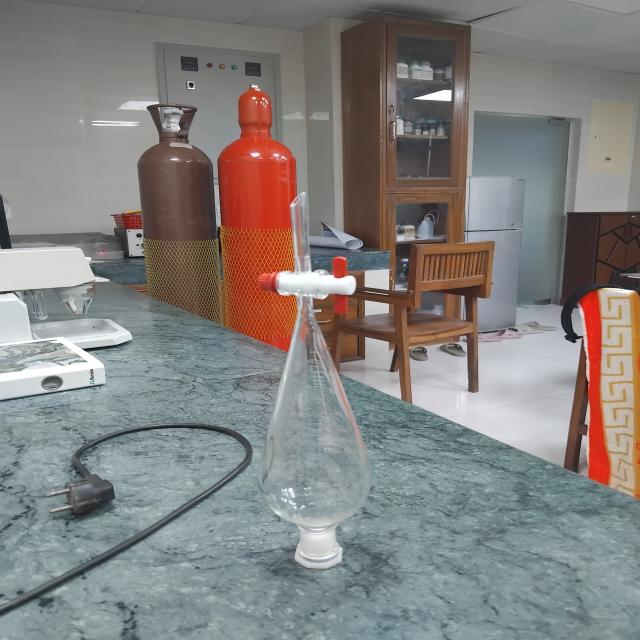Separating_Funnel: (206, 158, 434, 600)
